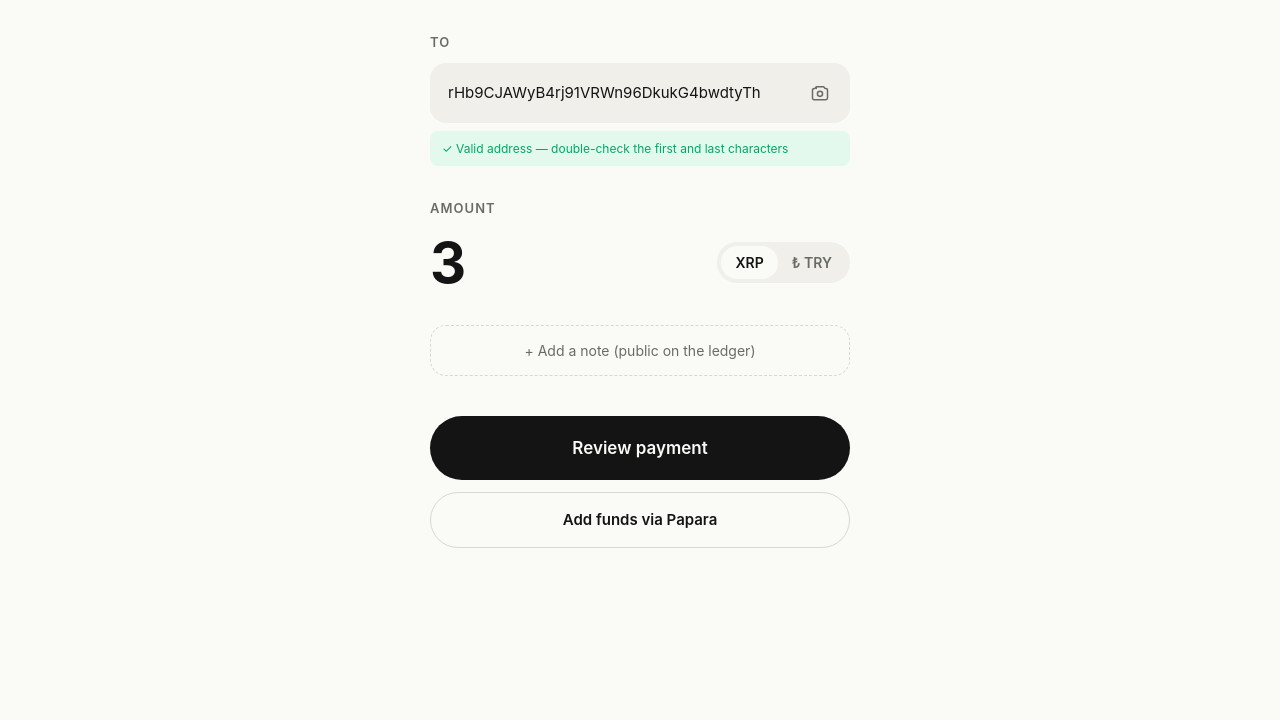
Test: SendFlow › opens the confirm sheet on review
Click the button "Review payment" at {"x": 640, "y": 448}, box x1=430 y1=416 x2=850 y2=480
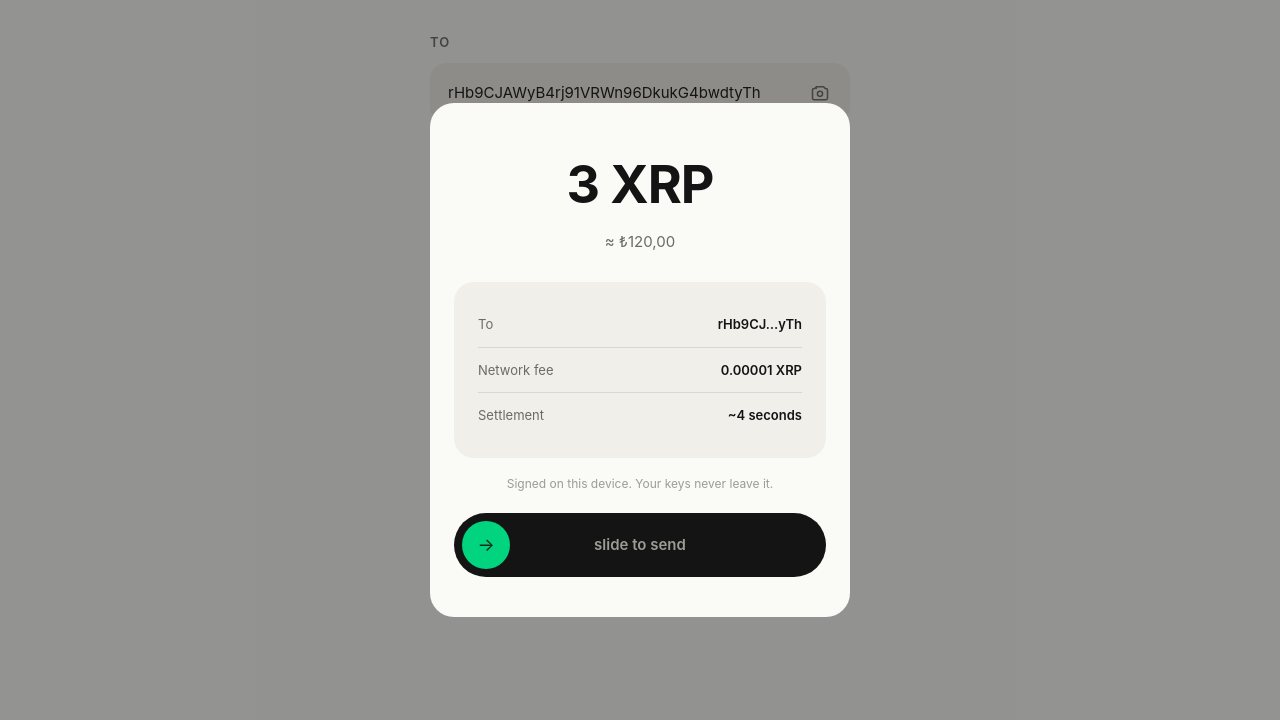
Now the text "slide to send" is shown, box x1=594 y1=533 x2=686 y2=557
